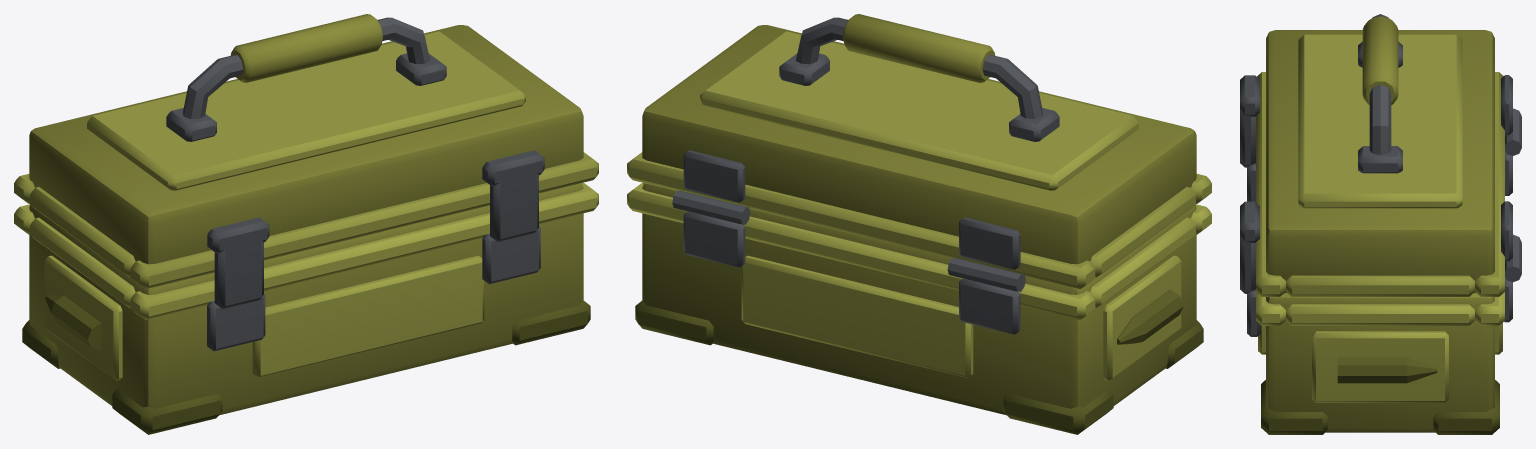
Rendered from ammo_box.glb.
3 renders of one model, left to right at view 1: azimuth 30°, elevation 25°; view 2: azimuth 150°, elevation 25°; view 3: azimuth 270°, elevation 25°, orthographic. The views are drawn at different scales.
Visible parts, largest first — view 1: ammo_box_lid, ammo_box_base; view 2: ammo_box_lid, ammo_box_base; view 3: ammo_box_lid, ammo_box_base.
Boxes of the visible parts, x1,y1,x2,y2 form: ammo_box_lid: (14, 14, 598, 309); ammo_box_base: (14, 183, 598, 434); ammo_box_lid: (627, 14, 1211, 289); ammo_box_base: (627, 183, 1211, 434); ammo_box_lid: (1240, 14, 1512, 296); ammo_box_base: (1247, 108, 1521, 434).
Bounding box in the file's own units: 0.526 × 0.3201 × 0.283.
